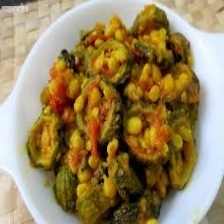sabzi: (24, 4, 201, 224)
